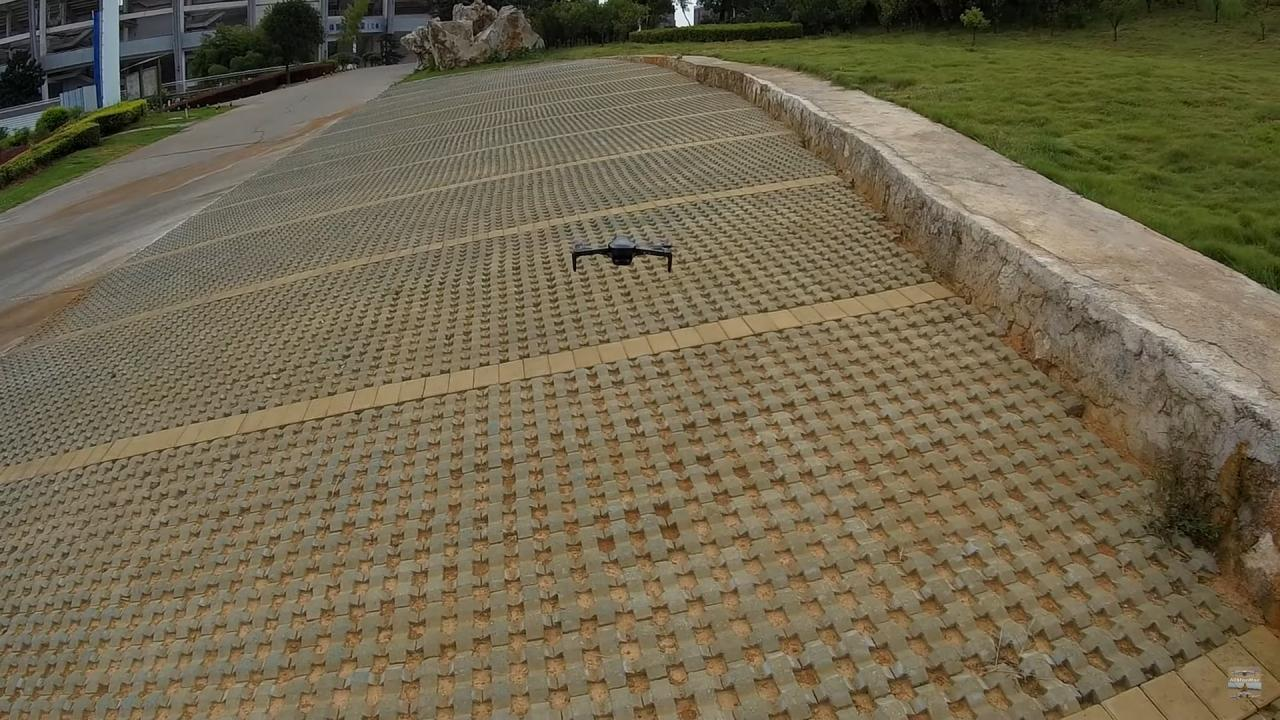Drone: (558, 222, 688, 288)
